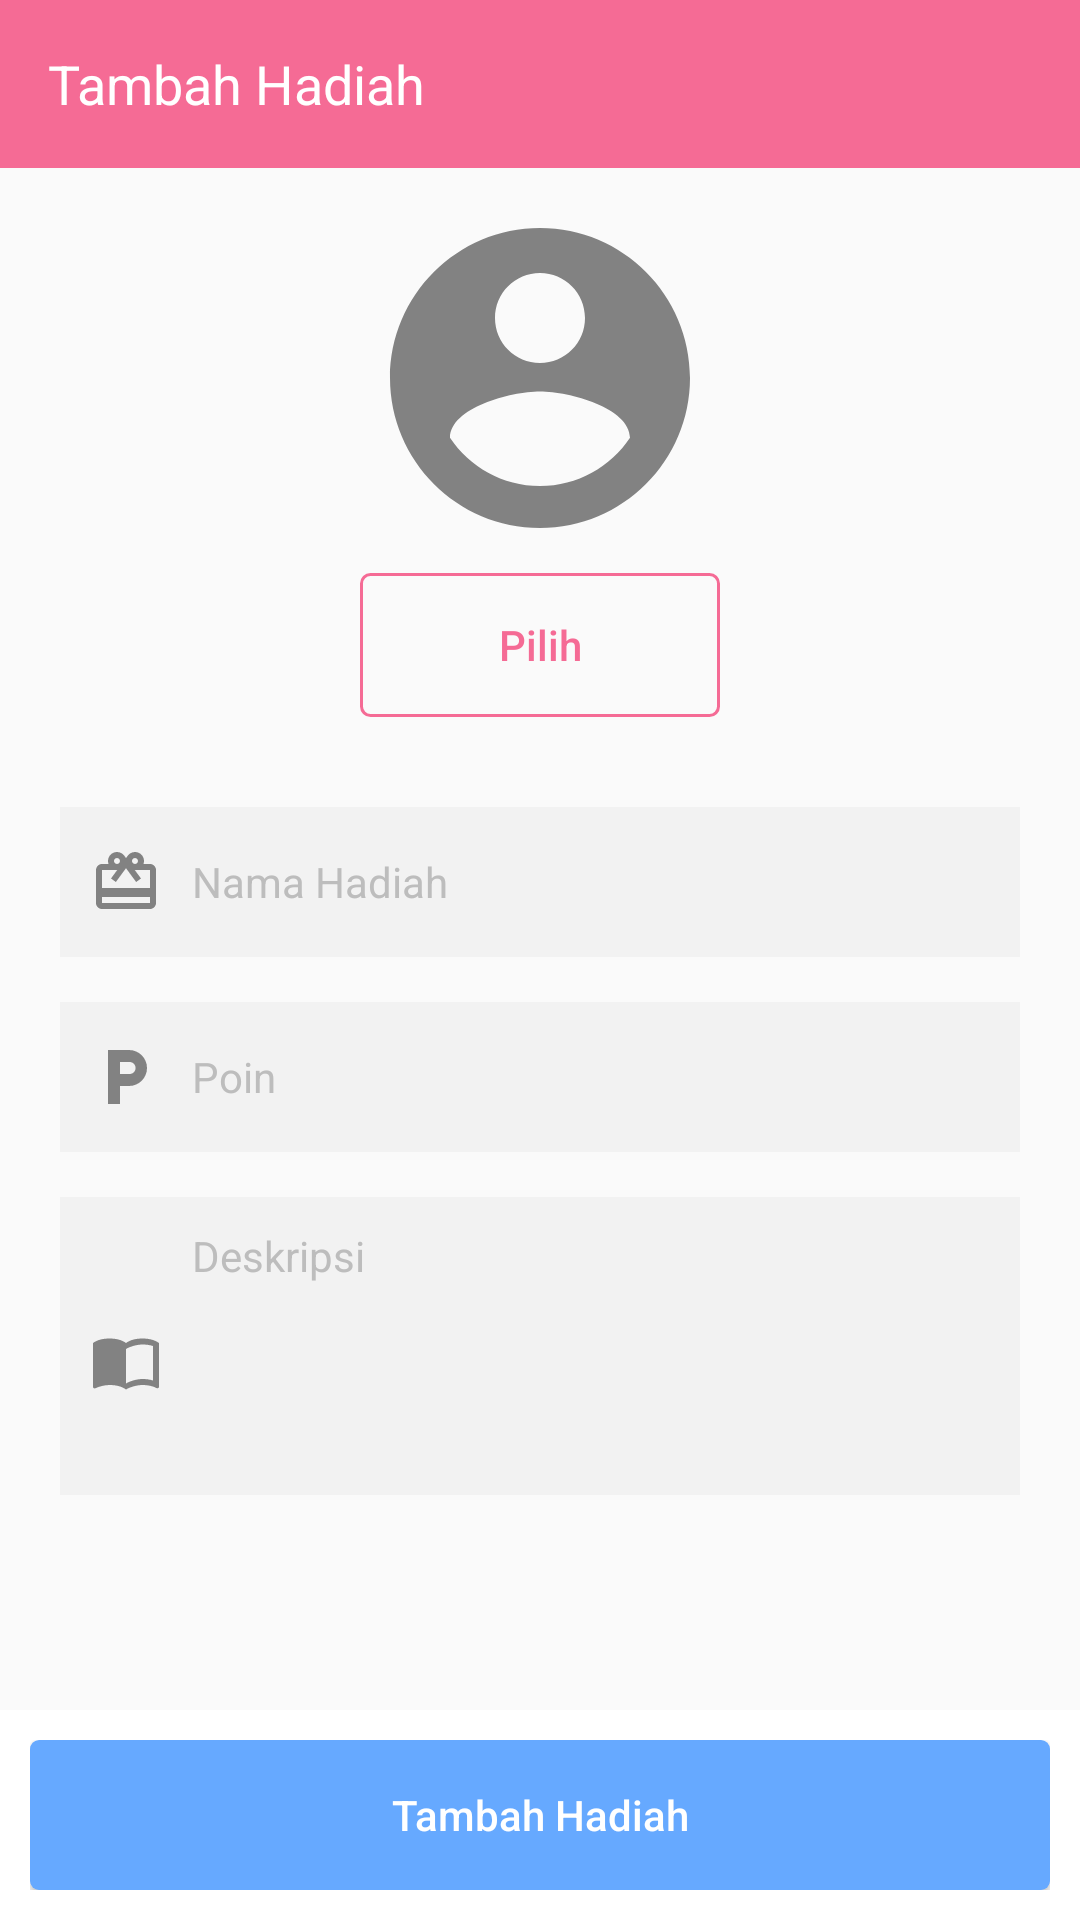

Named icons in this screenshot (1080×1920) and their bounding boxes, (x1, y1, x2, y2):
account circle: (390, 228, 690, 528)
